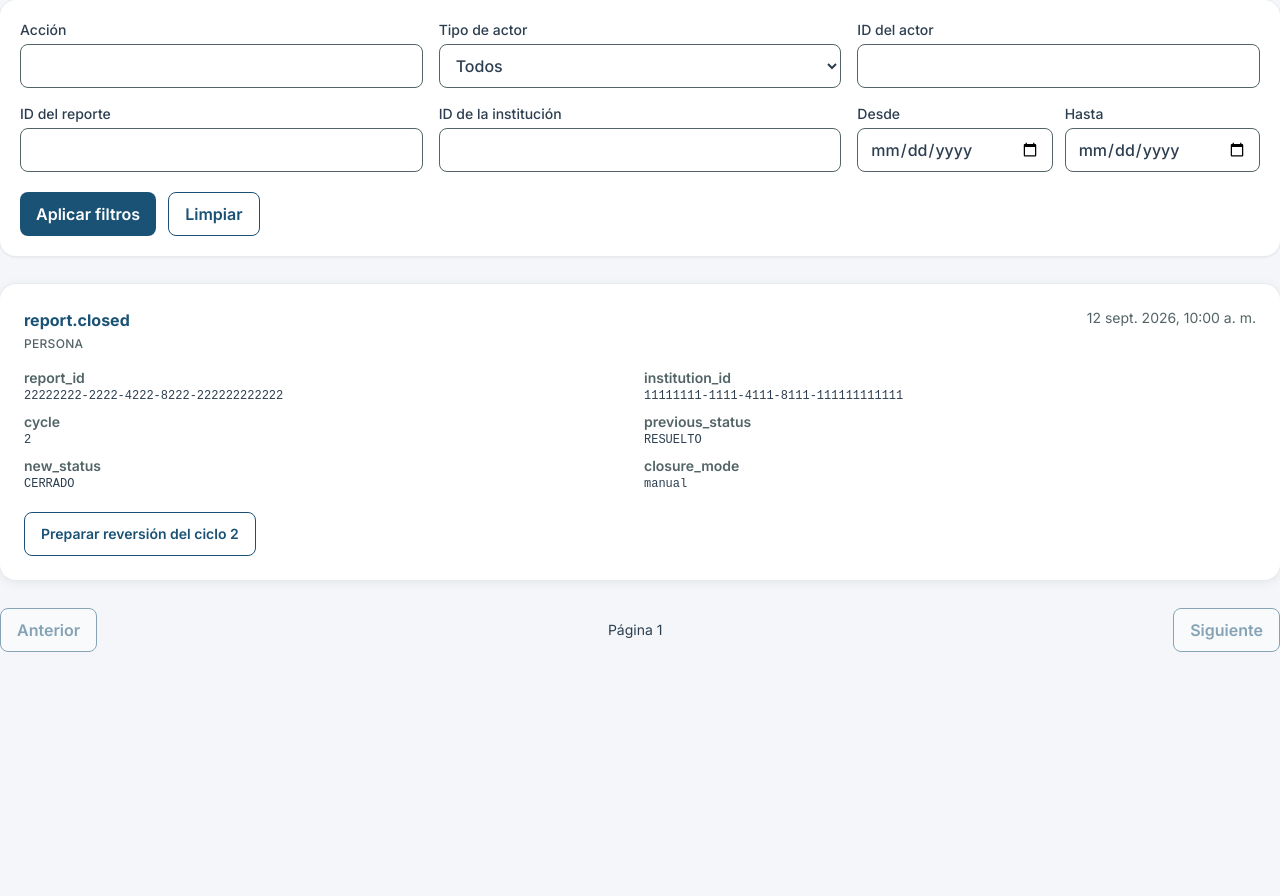
Test: consola administrativa S10 › advierte sobre PII, valida y confirma la reversión
Click the button "Preparar reversión del ciclo 2". click: (140,534)
box: [24,512,256,556]
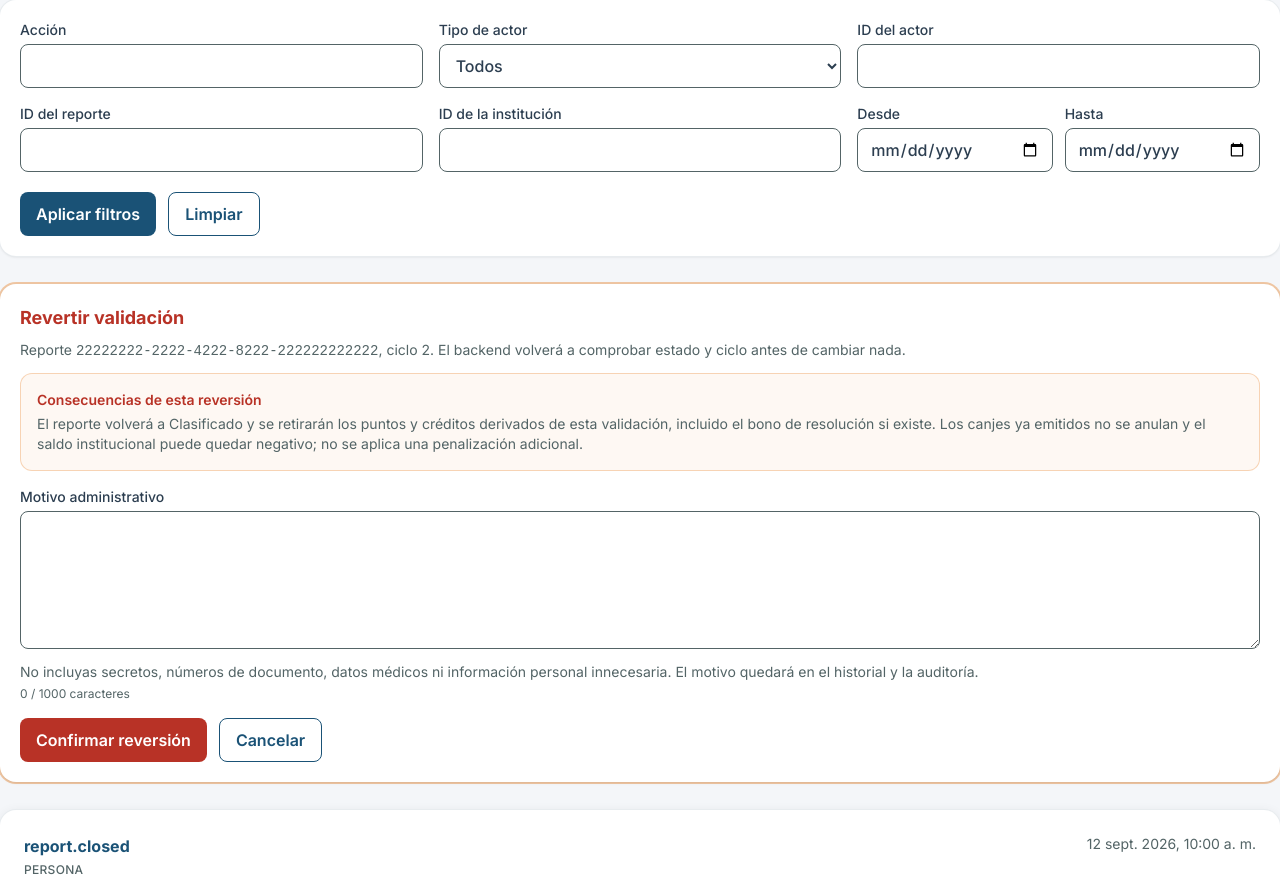
Expected: the text "No incluyas secretos, números de documento" is shown, [20,663,979,680]
Expected: the text "canjes ya emitidos no se anulan" is shown, [37,415,1206,452]
Type "Corrección fundada." into the text box labelled "Motivo administrativo". click: (640,580)
box: [20,511,1260,649]
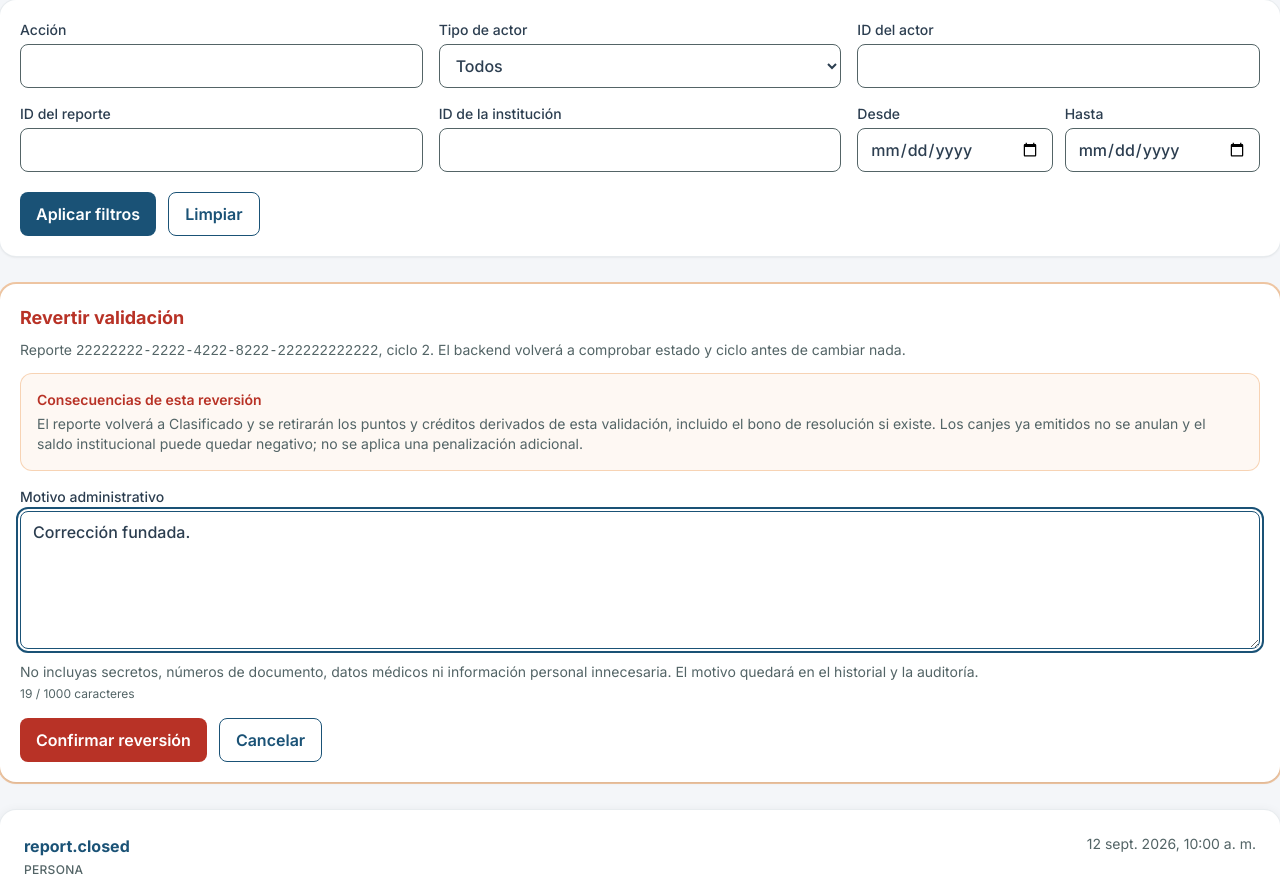
Click the button "Confirmar reversión". click: (113,740)
box: [20,718,207,762]
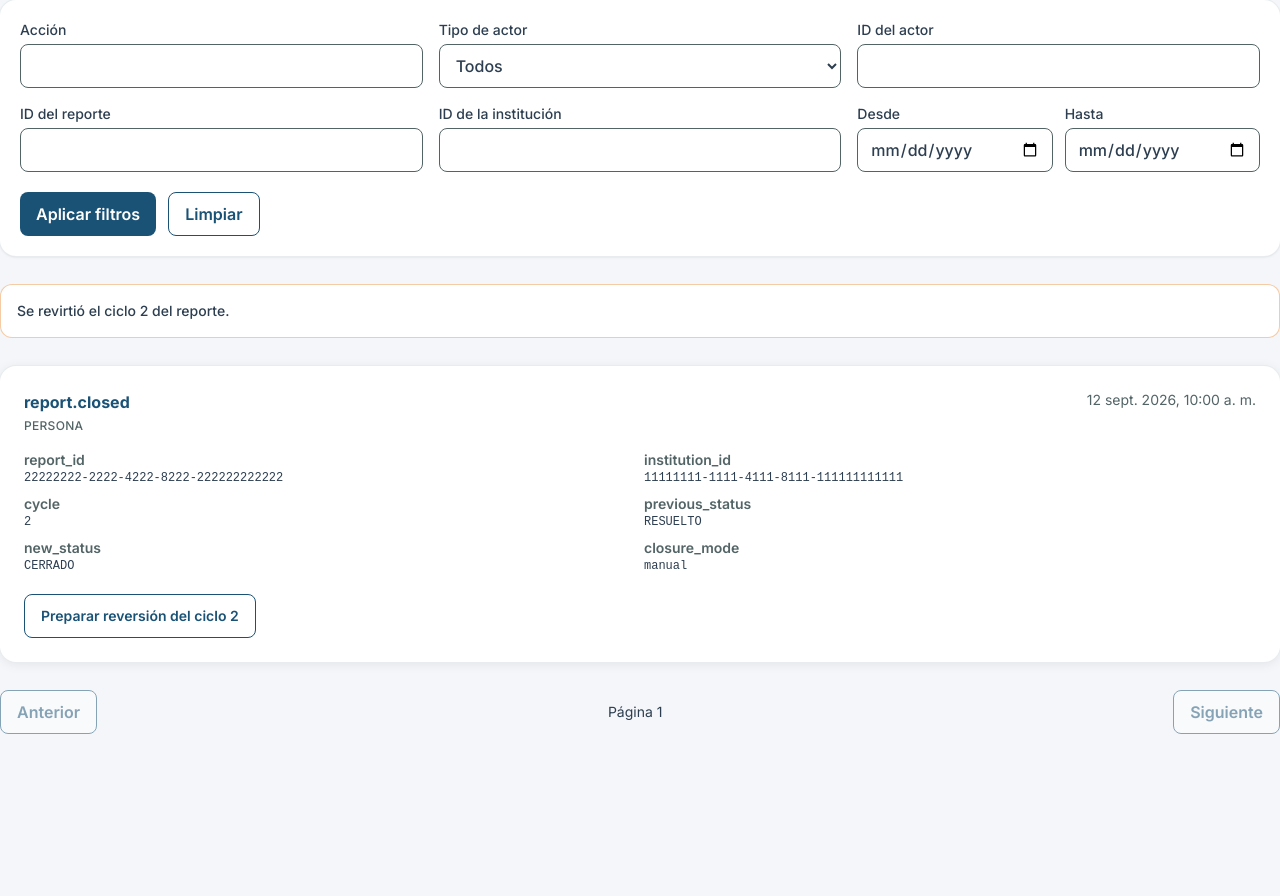
Expected: the message shows "Se revirtió el ciclo 2", [17,302,229,319]
